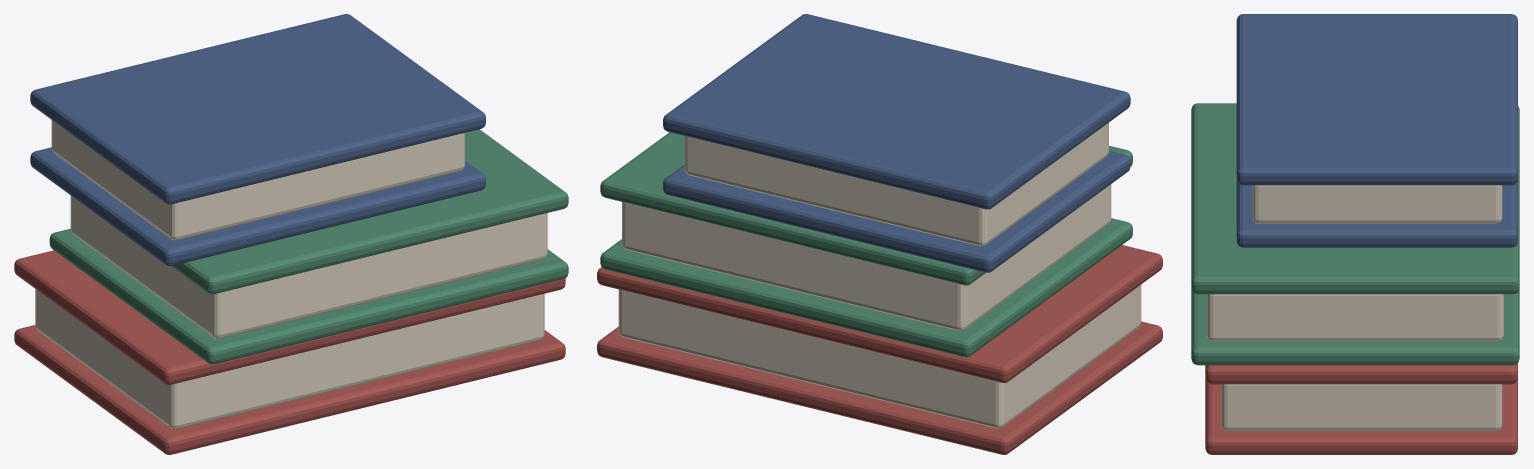
The model's file is minimal-book-stack-01.glb.
3 renders of one model, left to right at view 1: azimuth 30°, elevation 25°; view 2: azimuth 150°, elevation 25°; view 3: azimuth 270°, elevation 25°, orthographic. The views are drawn at different scales.
Parts seen in each view (by area): view 1: minimal-book-stack-01; view 2: minimal-book-stack-01; view 3: minimal-book-stack-01.
Boxes of the visible parts, <box> form: minimal-book-stack-01: <box>14,14,568,454</box>; minimal-book-stack-01: <box>597,14,1162,454</box>; minimal-book-stack-01: <box>1191,14,1519,454</box>.
Size of the model in its own units: 0.3 by 0.18 by 0.21.
